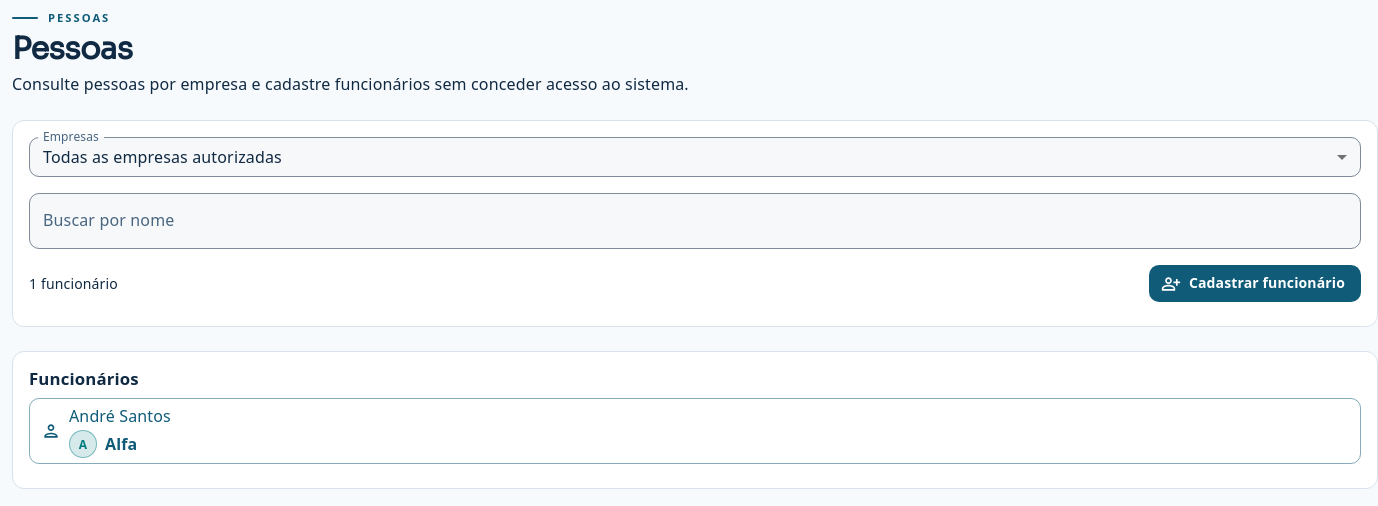
PeoplePage › matches accented names with an accent-insensitive search
expect the text "André Santos" is shown: met, box left=69, top=404, right=171, bottom=428
In the field labelled "Buscar por nome": (695, 221) left=29, top=193, right=1361, bottom=249, type "andre"
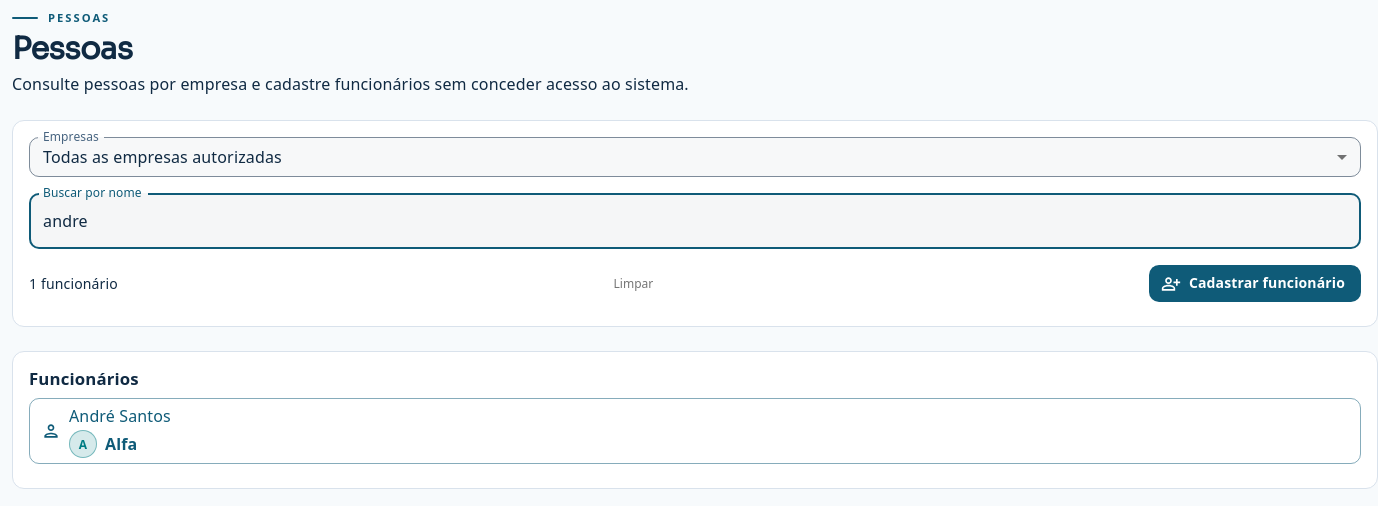
expect the text "André Santos" is shown: met, box left=69, top=404, right=171, bottom=428
Replace the text in the field labelled "Buscar por nome" with "ÁNDR": (695, 221) left=29, top=193, right=1361, bottom=249
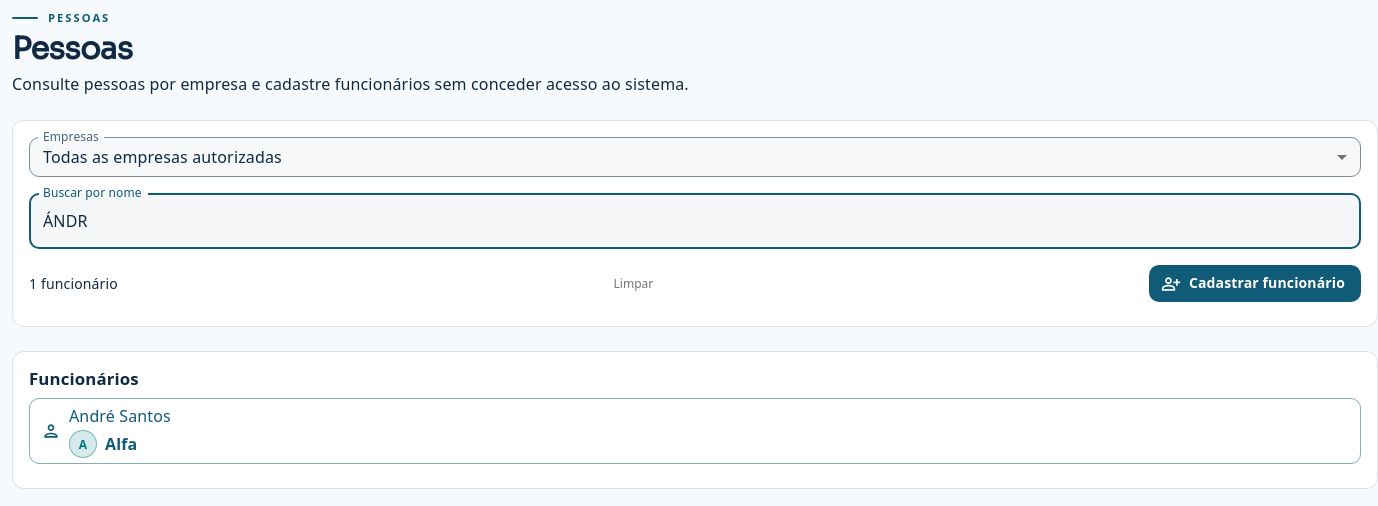
expect the text "André Santos" is shown: met, box left=69, top=404, right=171, bottom=428
Replace the text in the field labelled "Buscar por nome" with "bruno": (695, 221) left=29, top=193, right=1361, bottom=249
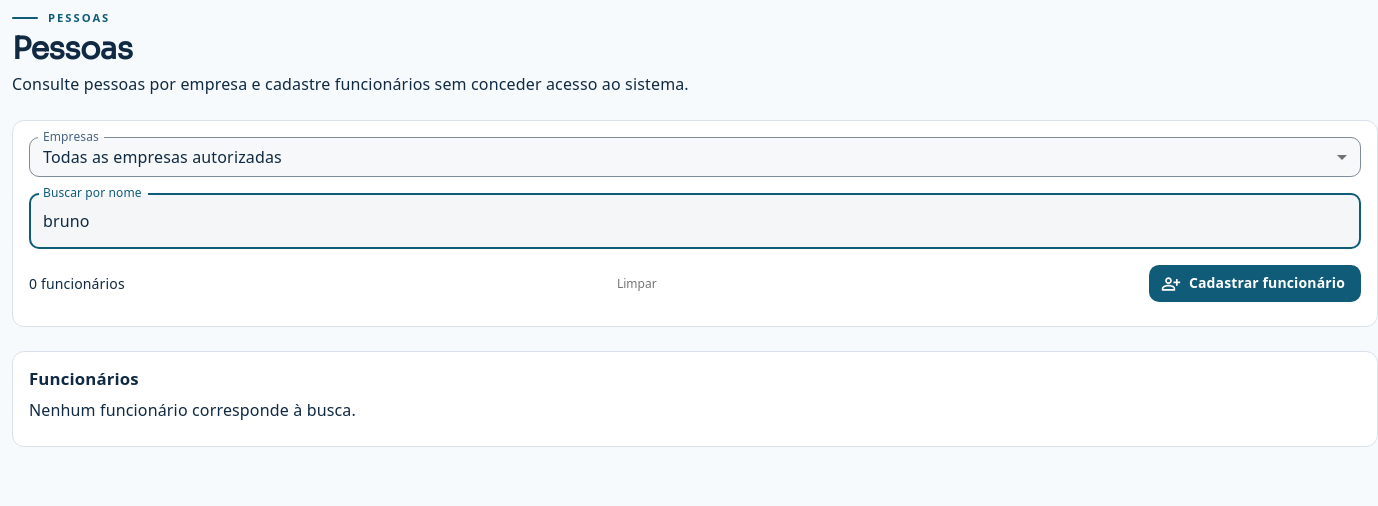
expect the text "Nenhum funcionário corresponde à busca." is shown: met, box left=29, top=400, right=356, bottom=422
